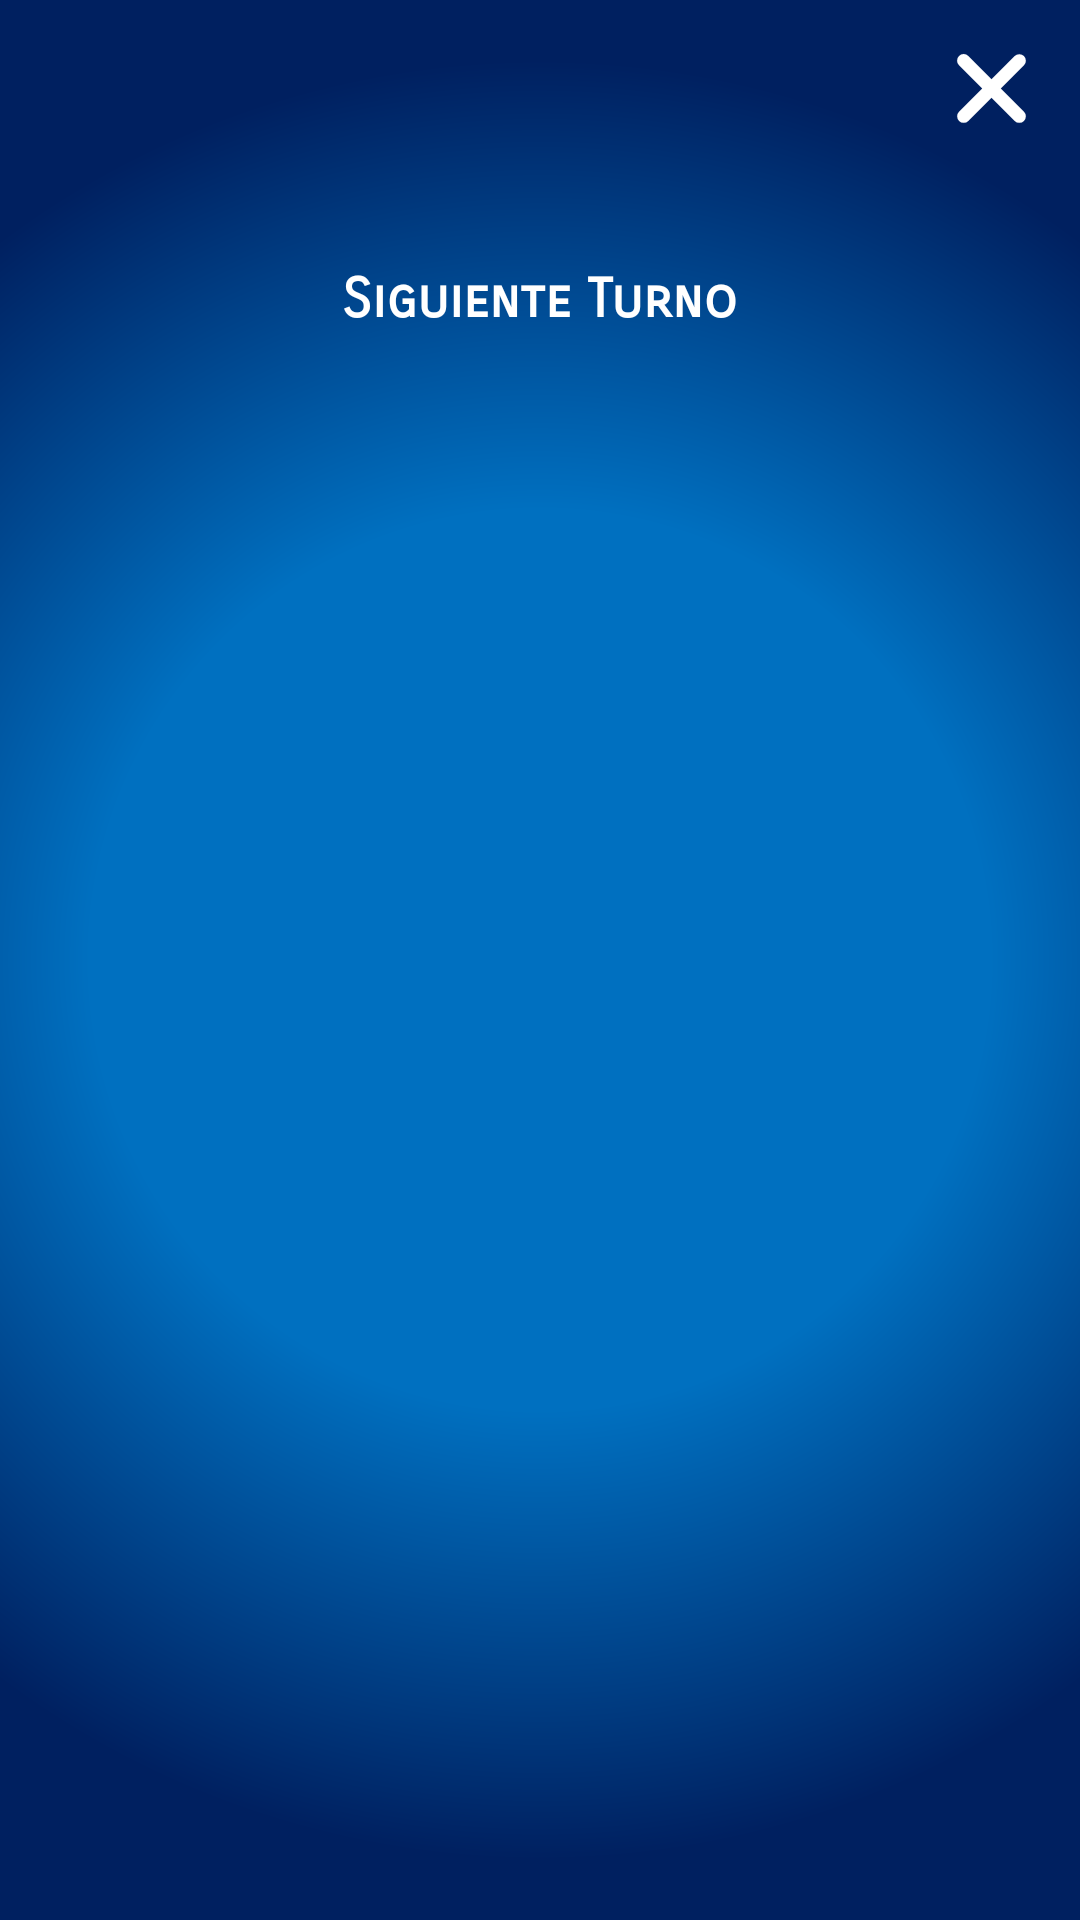

Icon click points for this 1080×1920 phone screenshot, format [x,y]:
close: [991,88]
